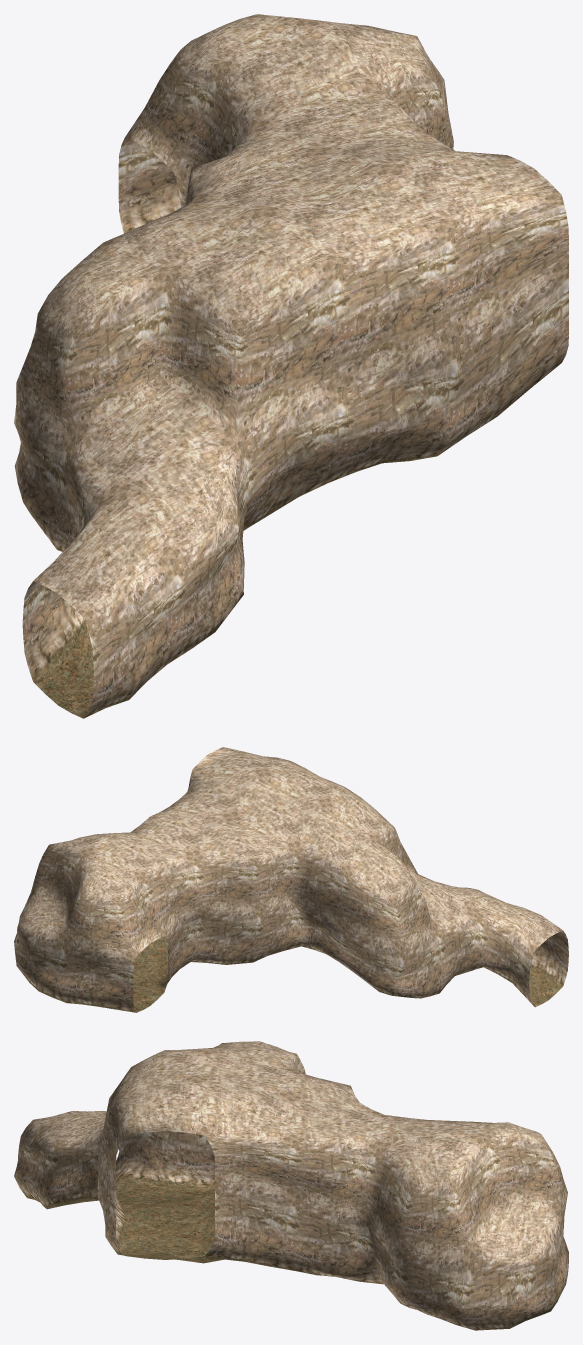
File: thm_all_cave_s03_r2_mesh_r2.fbx
3 views of the same model, one above another, from view 1: azimuth 30°, elevation 25°; view 2: azimuth 150°, elevation 25°; view 3: azimuth 270°, elevation 25° (orthographic). The views are drawn at different scales.
Parts seen in each view (by area): view 1: mesh_node; view 2: mesh_node; view 3: mesh_node.
Boxes of the visible parts, box(x1,y1,x2,y2) form: mesh_node: box(14, 14, 568, 718); mesh_node: box(14, 747, 568, 1012); mesh_node: box(14, 1041, 568, 1330).
Bounding box in the file's own units: 48.79 × 26.36 × 49.81.
